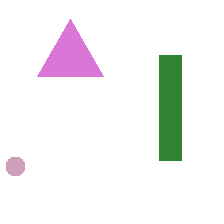circle: (6, 157, 24, 175)
rectangle: (159, 55, 181, 160)
triangle: (37, 19, 103, 76)
